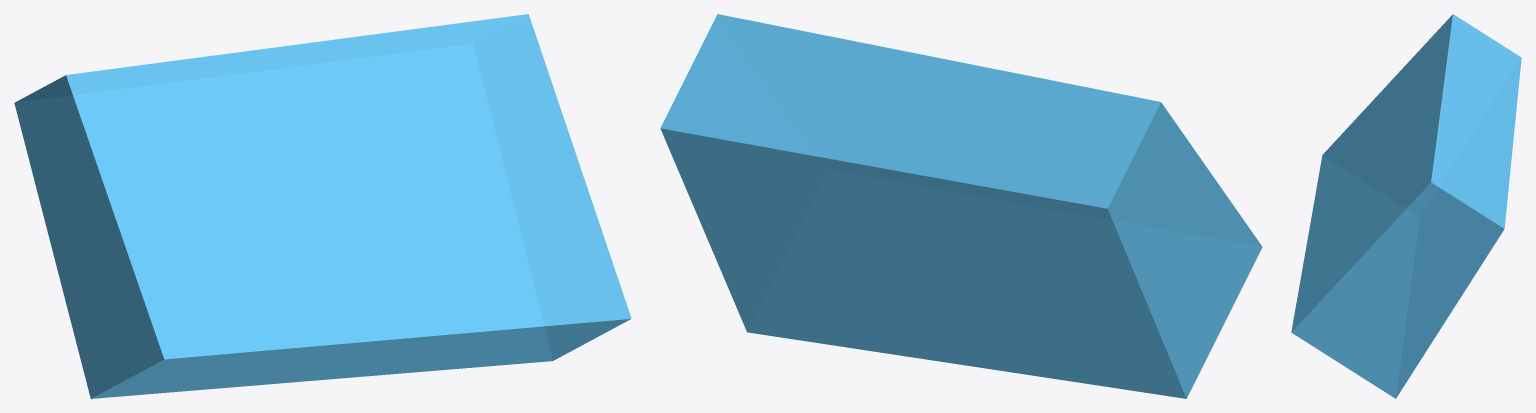
The model's file is Event_421127236_HErechit_47.fbx.
3 views of the same model, side by side, from view 1: azimuth 30°, elevation 25°; view 2: azimuth 150°, elevation 25°; view 3: azimuth 270°, elevation 25° (orthographic). The views are drawn at different scales.
Parts seen in each view (by area): view 1: Model; view 2: Model; view 3: Model.
Boxes of the visible parts, x1,y1,x2,y2 form: Model: (14, 14, 631, 398); Model: (660, 14, 1262, 398); Model: (1291, 14, 1521, 398).
Size of the model in its own units: 0.787 by 0.6117 by 0.5298.
